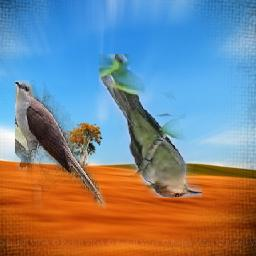Cuckoo: (100, 54, 203, 198), (16, 81, 107, 210)
